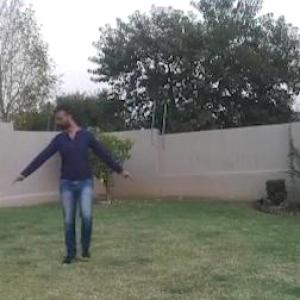land: (1, 83, 151, 292)
